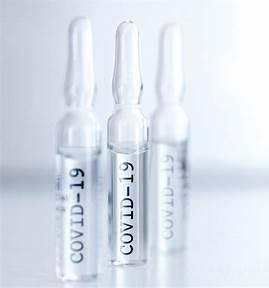Syringe: (51, 13, 103, 286), (101, 14, 152, 274)
